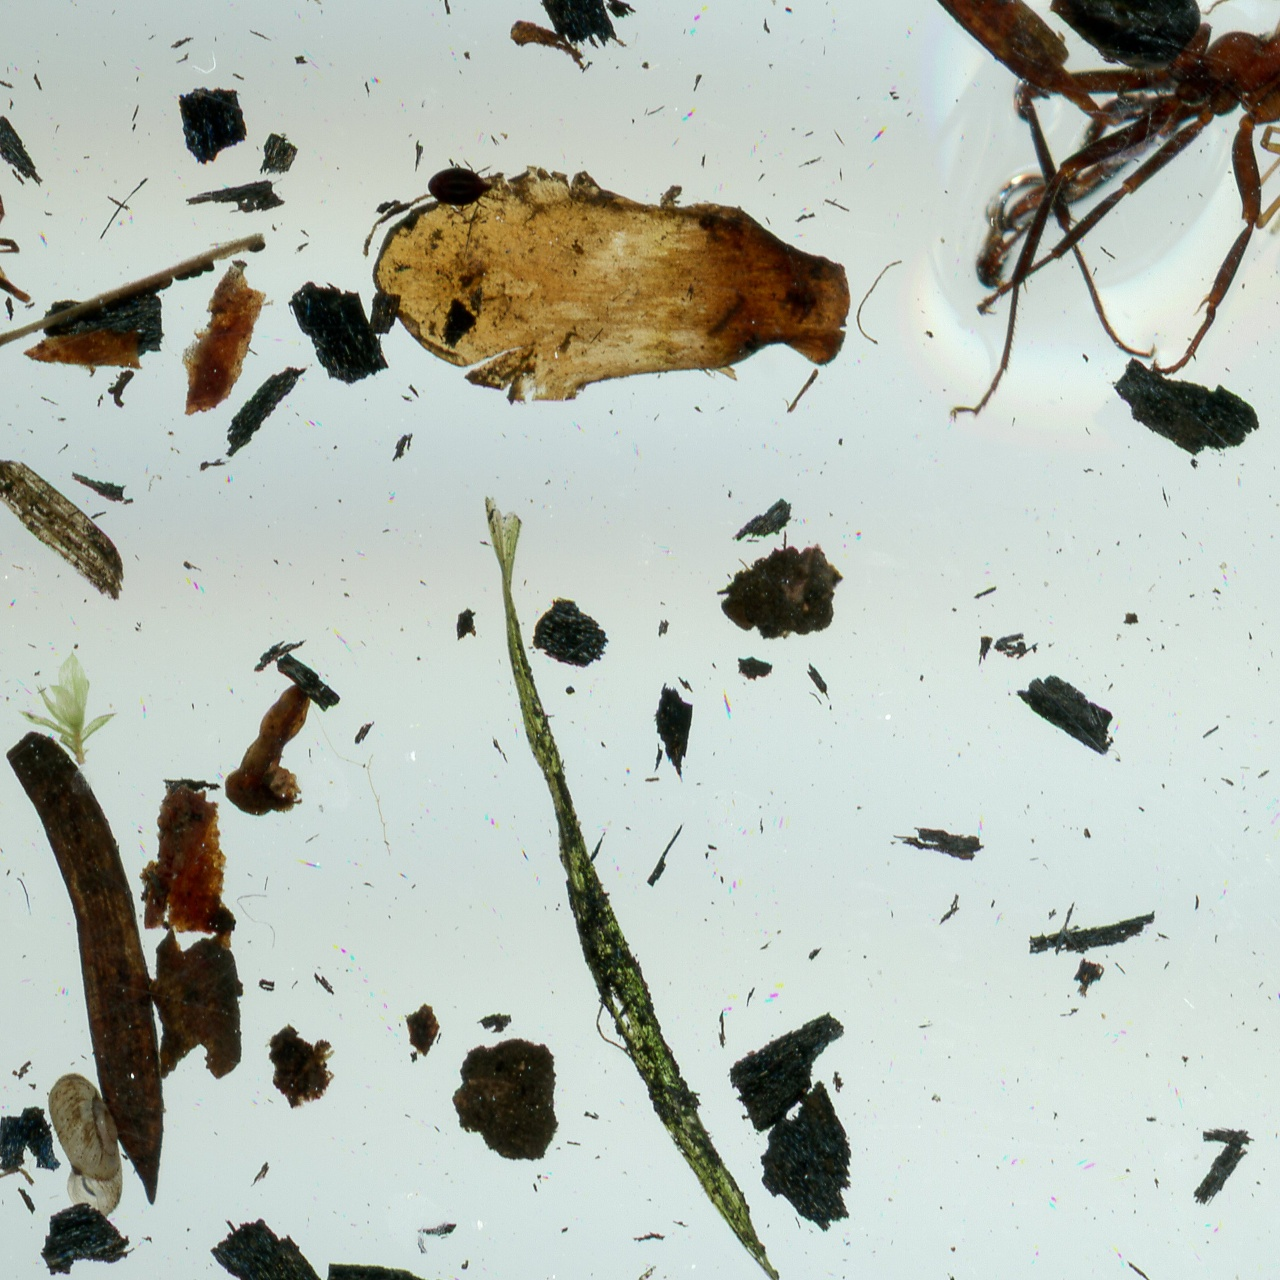arthropod: (937, 0, 1280, 438), (0, 8, 44, 306), (44, 1071, 127, 1220), (1247, 87, 1280, 271), (425, 158, 514, 213), (299, 0, 339, 7)
